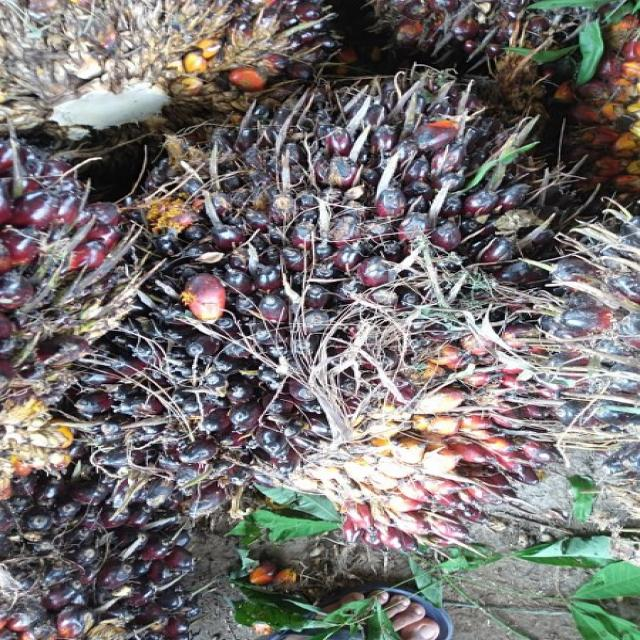fraksi 00: (69, 73, 588, 520)
